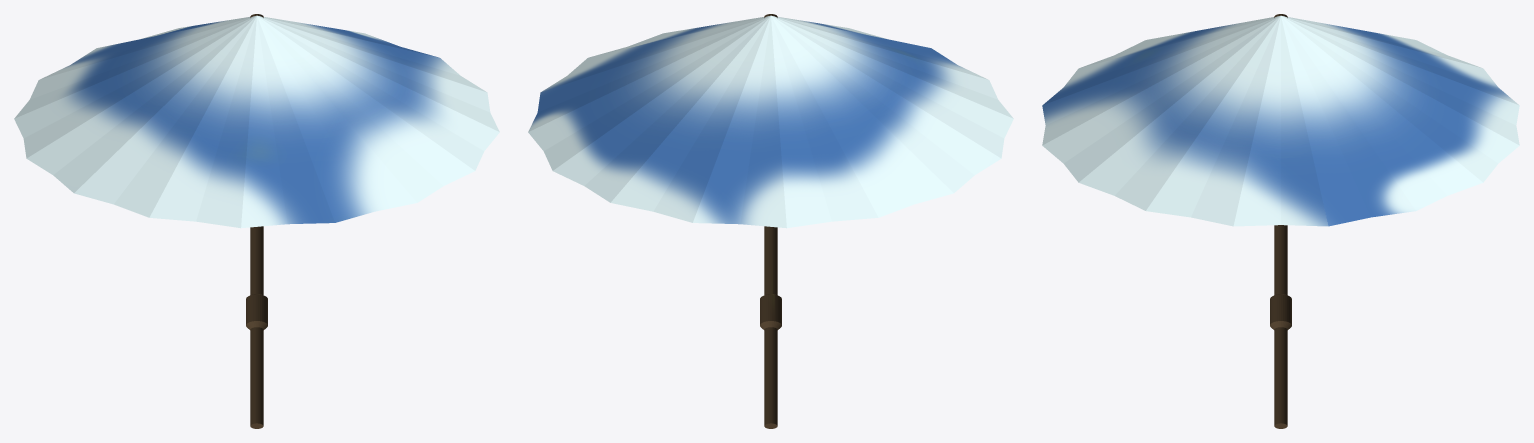
The model's file is chuvas.fbx.
The picture shows the model from 3 angles, left to right: view 1: azimuth 30°, elevation 25°; view 2: azimuth 150°, elevation 25°; view 3: azimuth 270°, elevation 25°; orthographic projection.
Visible parts, largest first — view 1: Cone; view 2: Cone; view 3: Cone.
Boxes of the visible parts, x1=… form: Cone: x1=14, y1=14, x2=499, y2=428; Cone: x1=528, y1=14, x2=1013, y2=428; Cone: x1=1042, y1=14, x2=1519, y2=428.
Size of the model in its own units: 788 by 747 by 788.
1 material, 1 textured.
